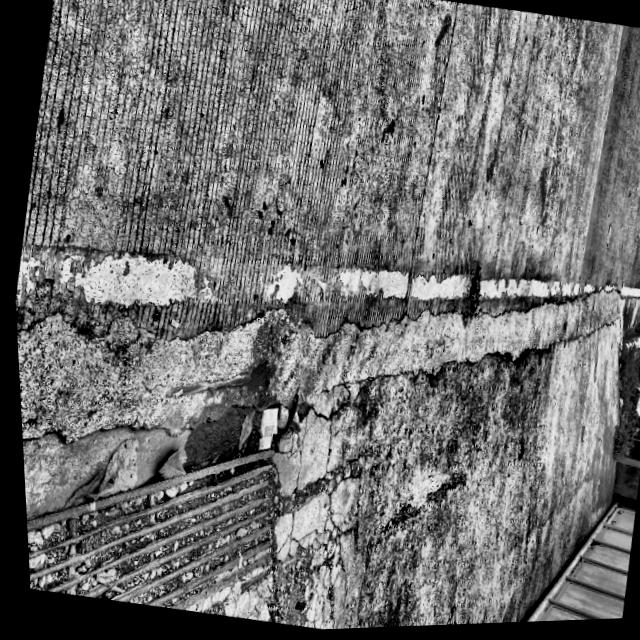no_or_faded_road_markings: (15, 252, 474, 337), (477, 279, 593, 313)
